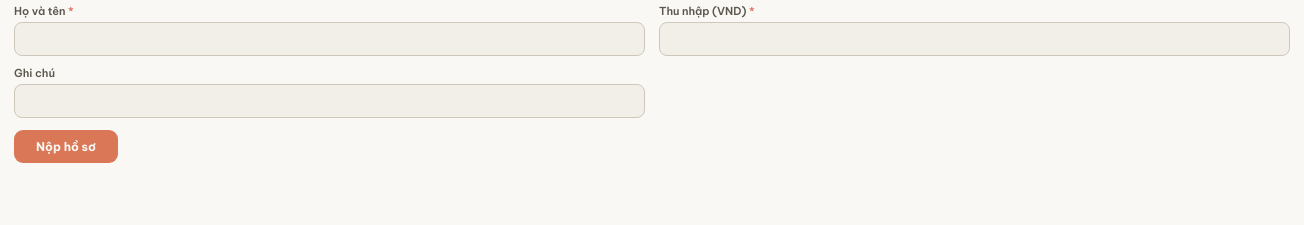
Test case: FormCard › lỗi submit từ server (body 4-field) → hiện message
Type "A" into the field labelled "Họ và tên" at (330, 39), box [14,22,645,56]
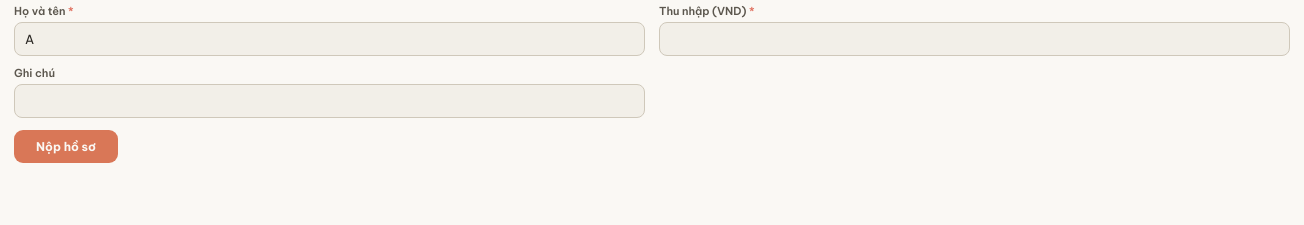
Type "15000000" into the number field labelled "Thu nhập (VND)" at (974, 39), box [659,22,1290,56]
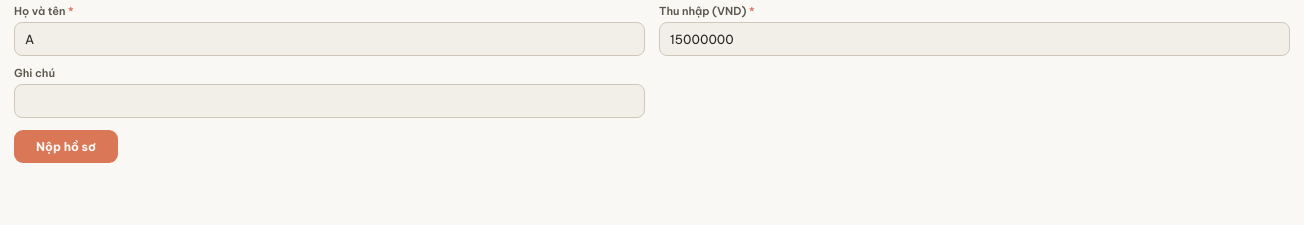
Click the button with test id "form-submit" at (66, 146), box [14,130,118,163]
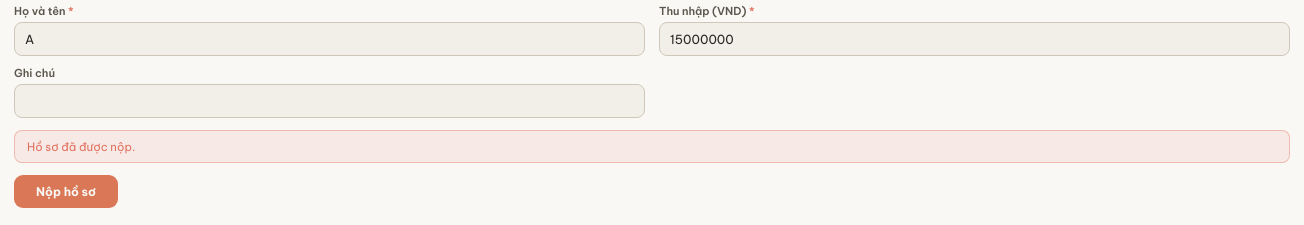
Result: the message reads "Hồ sơ đã được nộp." at [27,139,135,154]
